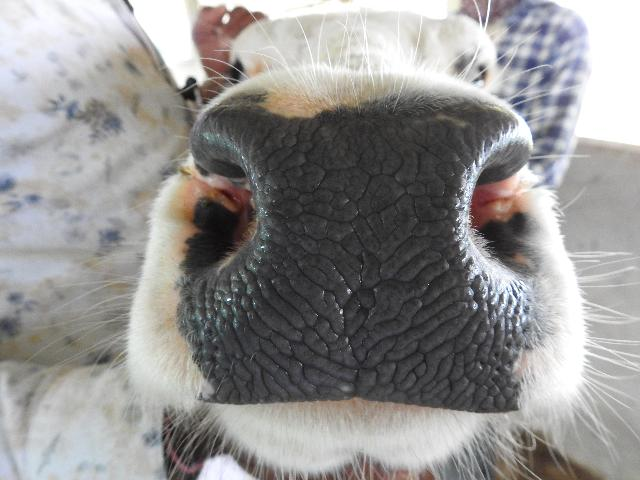Muzzle: (226, 116, 497, 402)
